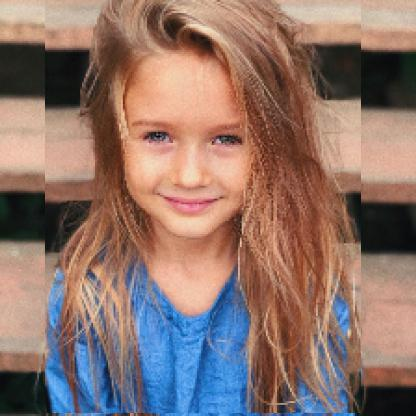child: (46, 1, 363, 415)
